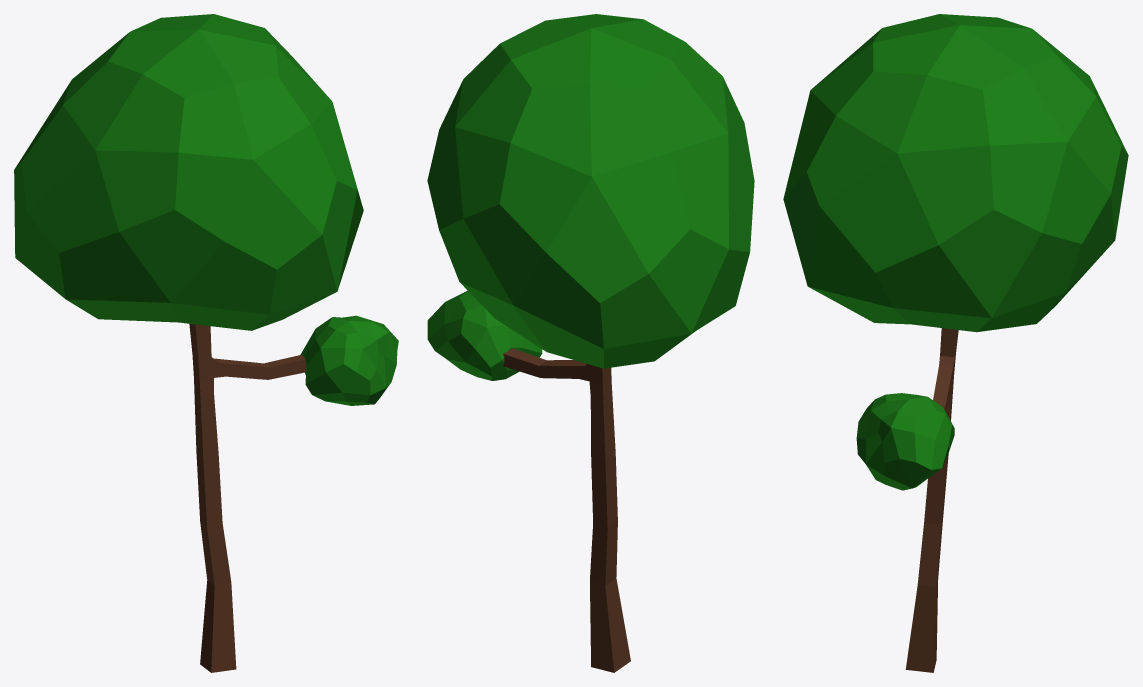
Rendered from arvore01.fbx.
The picture shows the model from 3 angles, left to right: view 1: azimuth 30°, elevation 25°; view 2: azimuth 150°, elevation 25°; view 3: azimuth 270°, elevation 25°; orthographic projection. The views are drawn at different scales.
Visible parts, largest first — view 1: Icosphere.007, Cube.001, Icosphere.006; view 2: Icosphere.007, Cube.001, Icosphere.006; view 3: Icosphere.007, Icosphere.006, Cube.001.
Boxes of the visible parts, x1=… form: Icosphere.007: x1=14, y1=14, x2=363, y2=330; Cube.001: x1=189, y1=323, x2=306, y2=672; Icosphere.006: x1=300, y1=315, x2=398, y2=405; Icosphere.007: x1=427, y1=14, x2=754, y2=368; Cube.001: x1=503, y1=348, x2=630, y2=672; Icosphere.006: x1=427, y1=290, x2=542, y2=380; Icosphere.007: x1=783, y1=14, x2=1128, y2=332; Icosphere.006: x1=856, y1=393, x2=954, y2=490; Cube.001: x1=905, y1=328, x2=958, y2=672.
Size of the model in its own units: 325 by 588 by 287.
